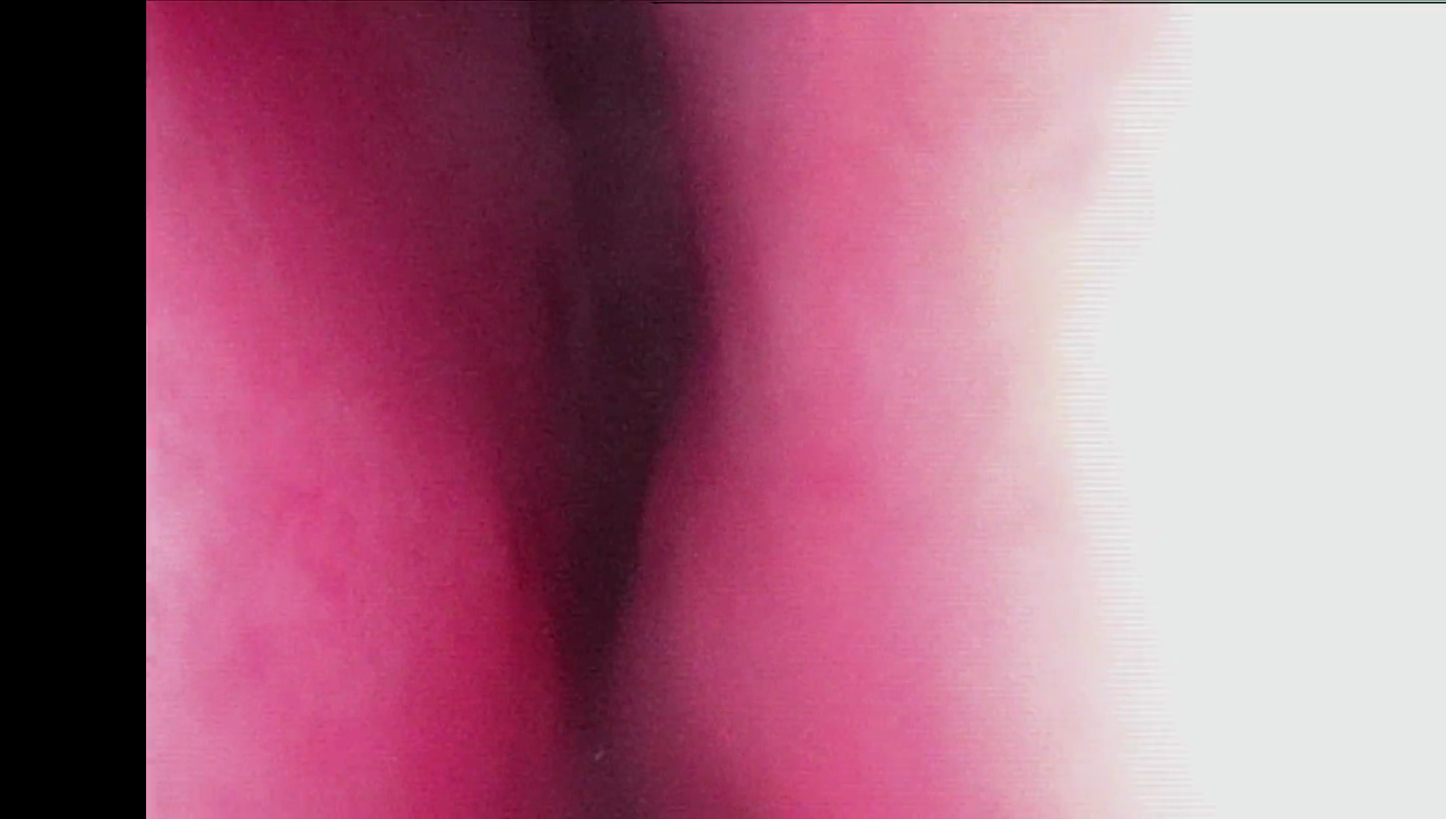close_wall: (804, 8, 1446, 819), (148, 251, 441, 819)
next: (501, 153, 722, 730)
